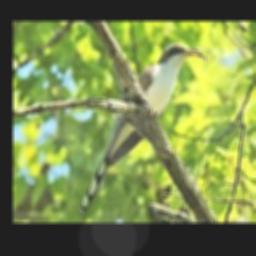Cuckoo: (81, 43, 203, 211)
